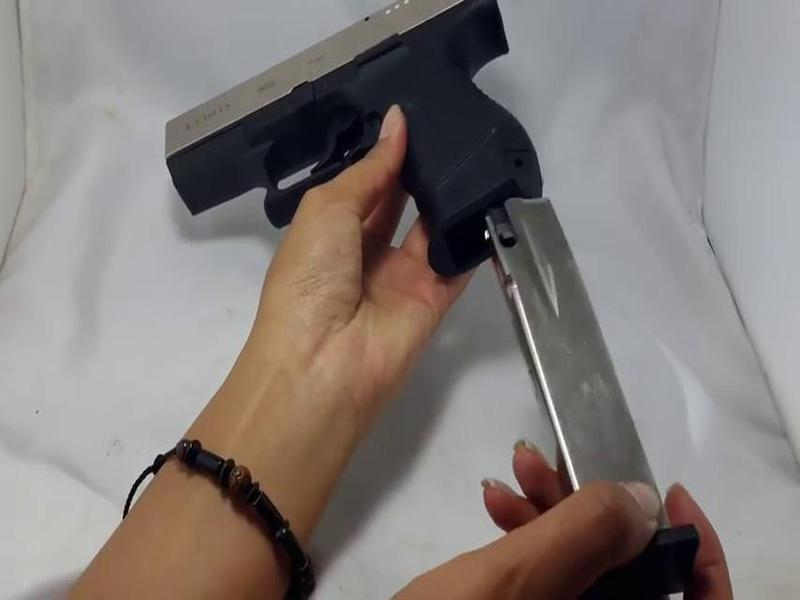Pistola: (128, 11, 553, 268)
